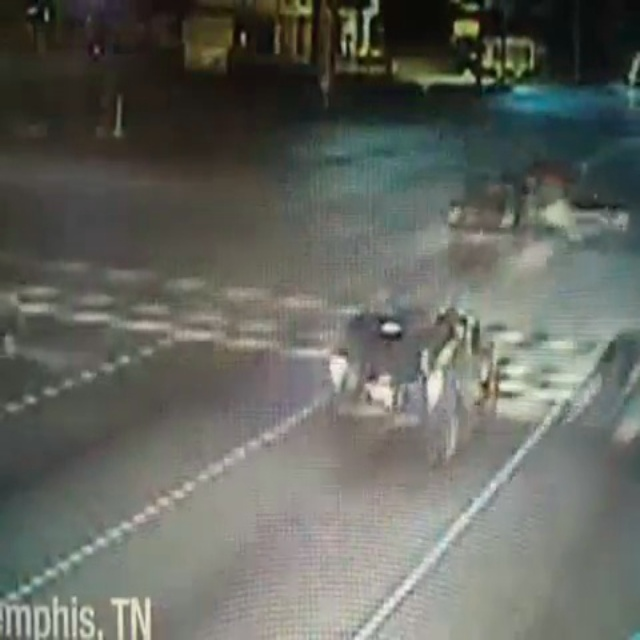acc: (432, 147, 626, 263)
